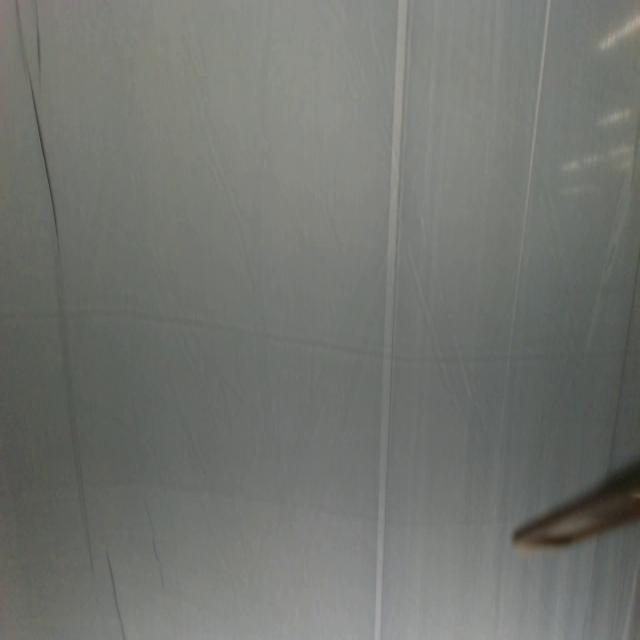color bleeding: (3, 305, 534, 522)
crease: (14, 0, 94, 571), (498, 0, 552, 439), (373, 0, 410, 637), (610, 253, 640, 462), (107, 550, 127, 640)
